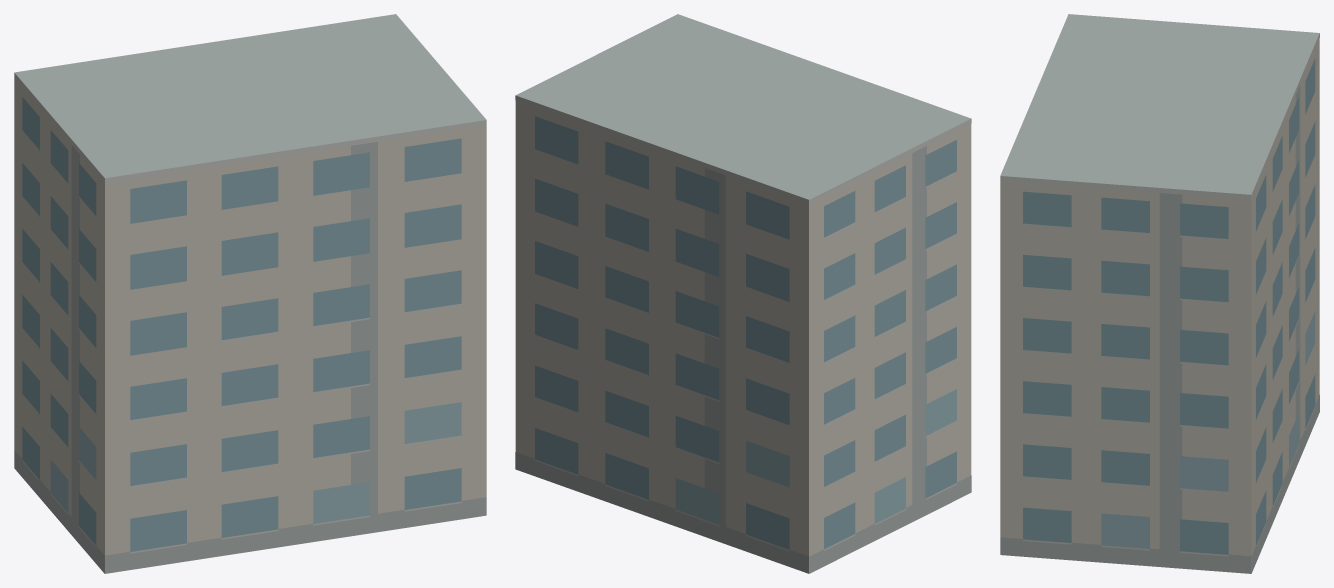
File: survey-upis-33047518.glb
The picture shows the model from 3 angles, left to right: view 1: azimuth 30°, elevation 25°; view 2: azimuth 150°, elevation 25°; view 3: azimuth 270°, elevation 25°; orthographic projection. The views are drawn at different scales.
Visible parts, largest first — view 1: survey-upis-33047518.tmp; view 2: survey-upis-33047518.tmp; view 3: survey-upis-33047518.tmp.
Part boxes in pixels (x1,y1,x2,y2): survey-upis-33047518.tmp: (14, 14, 486, 573); survey-upis-33047518.tmp: (515, 14, 971, 573); survey-upis-33047518.tmp: (1000, 14, 1319, 573).
Size of the model in its own units: 18.73 by 18.3 by 13.99.
